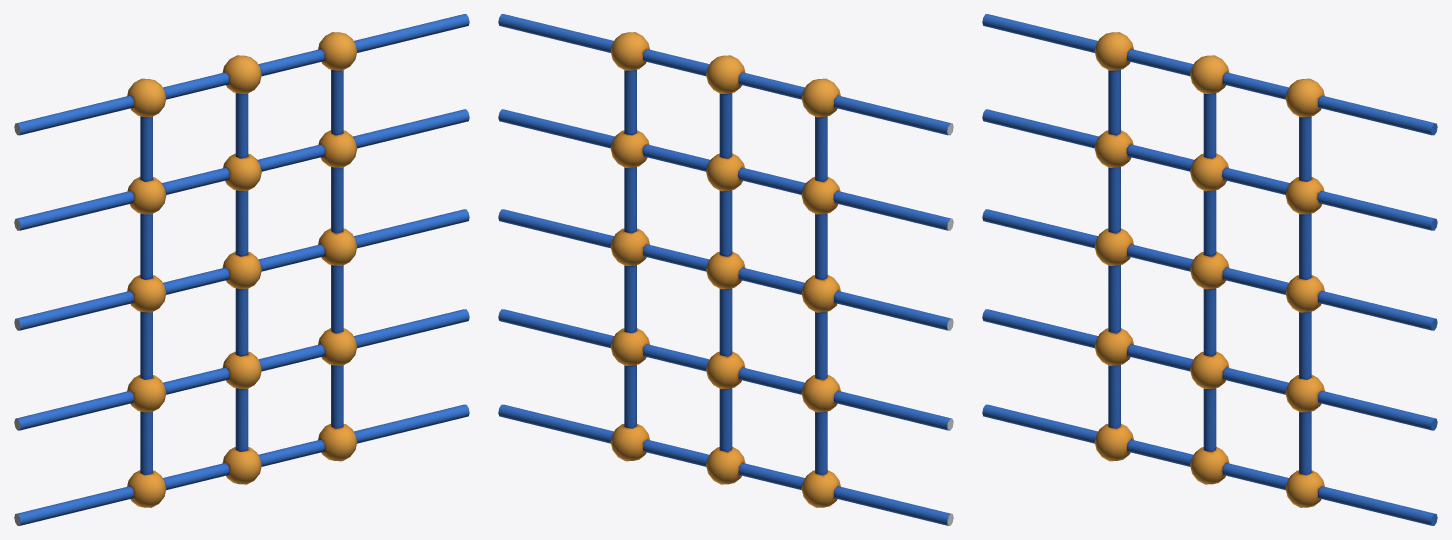
Rendered from NetFloor.fbx.
3 renders of one model, left to right at view 1: azimuth 30°, elevation 25°; view 2: azimuth 150°, elevation 25°; view 3: azimuth 330°, elevation 25°, orthographic.
Parts seen in each view (by area): view 1: NetFloor; view 2: NetFloor; view 3: NetFloor.
Part boxes in pixels (x1,y1,x2,y2): NetFloor: [14, 14, 469, 525]; NetFloor: [498, 14, 953, 525]; NetFloor: [982, 14, 1437, 525].
Size of the model in its own units: 316 by 287 by 24.37.
